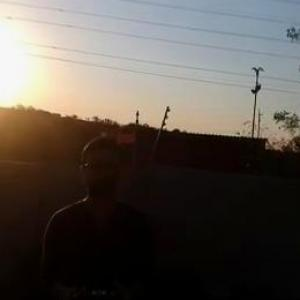follow: (32, 129, 163, 299)
